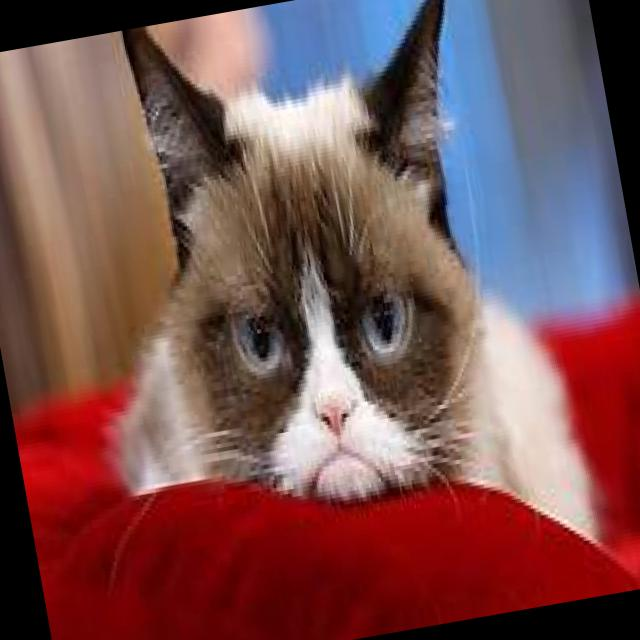cat: (46, 0, 601, 637)
